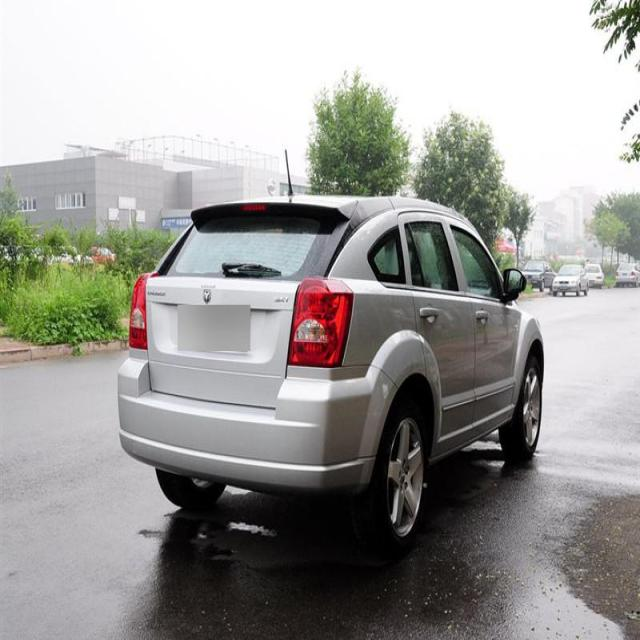back_glass: (152, 206, 346, 278)
back_left_side_light: (125, 268, 155, 356)
back_right_side_light: (287, 272, 354, 370)
door: (400, 209, 476, 438)
front_right_side_door: (444, 208, 514, 439)
front_right_side_mirror: (502, 260, 528, 302)
rear_bumper: (117, 359, 393, 491)
wheel: (374, 398, 431, 543), (510, 349, 546, 459)
